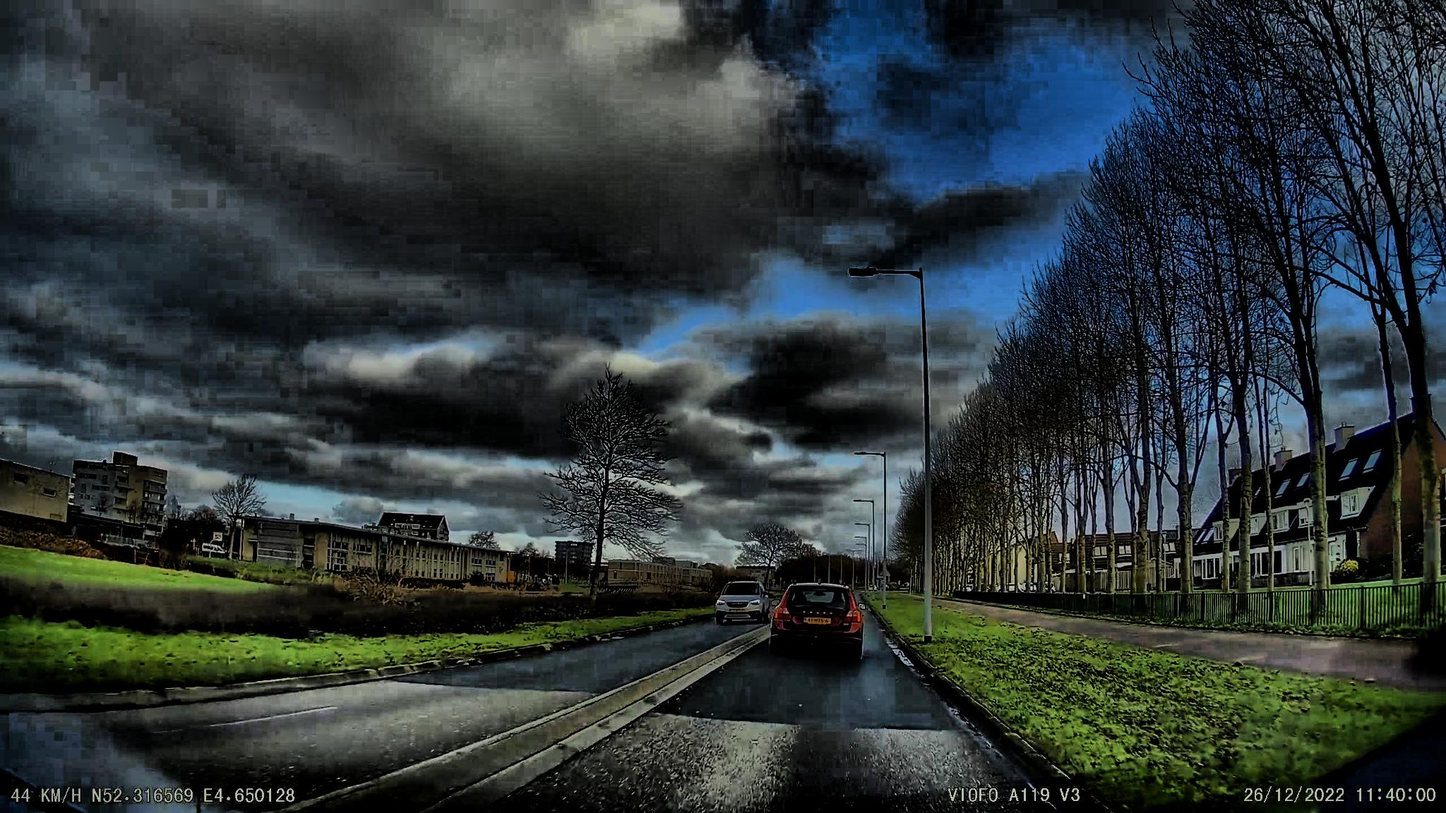Roads: (0, 623, 1109, 813)
